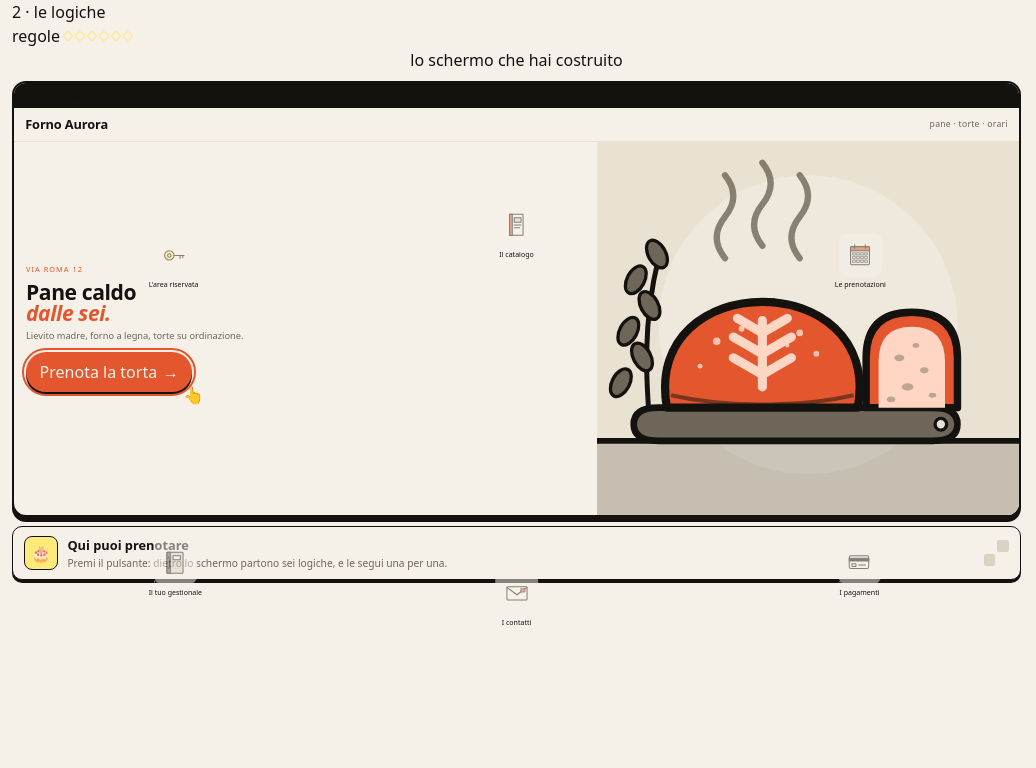
Test: le logiche, la partenza › parte dalla schermata del Forno Aurora, e «Prenota la torta» porta al primo nodo
Expected: the text "Qui puoi prenotare" is shown, [67,536,189,554]
Click the button "Prenota la torta → 👆" at (109, 372), box [26,352,192,392]
(page scrolled)
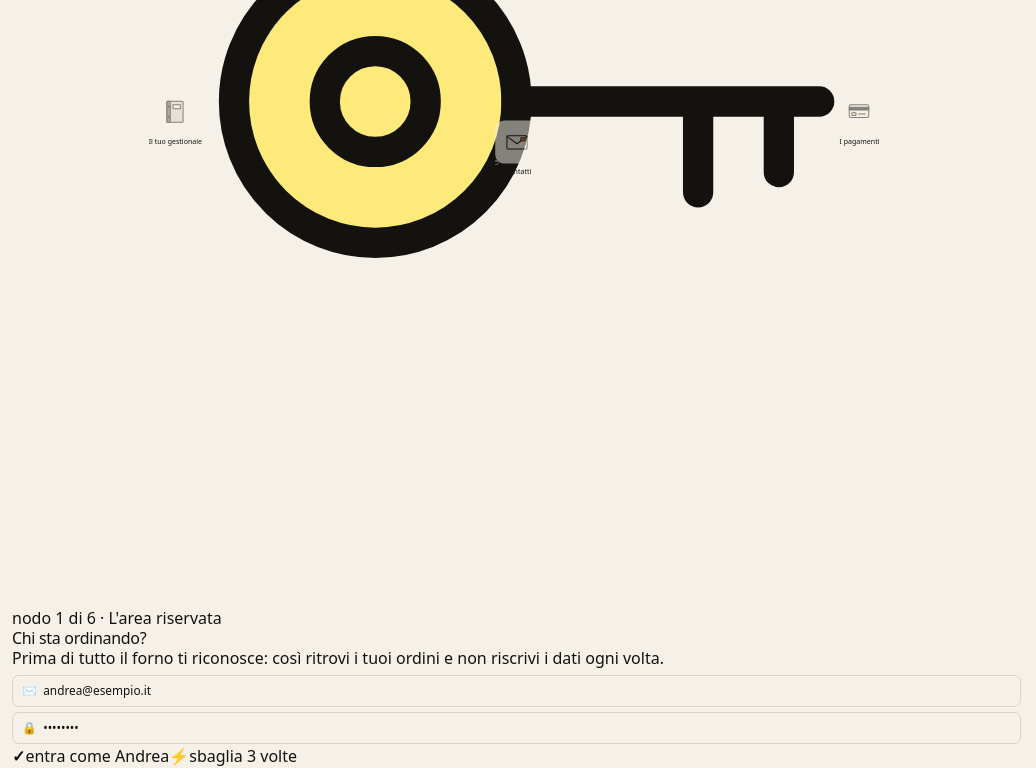
Result: the heading "Chi sta ordinando?" is shown at [12,627,146,649]
Result: the button "Qui puoi prenotare" is gone
